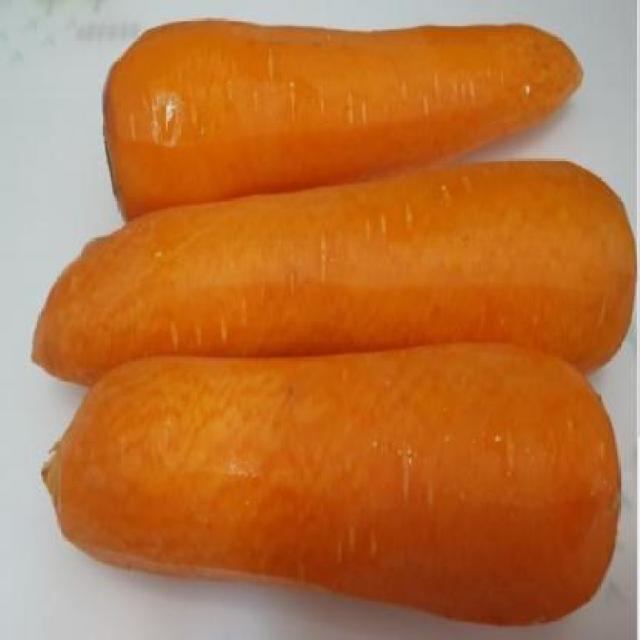carrot: (45, 344, 620, 624), (34, 161, 635, 383), (104, 20, 582, 219)
